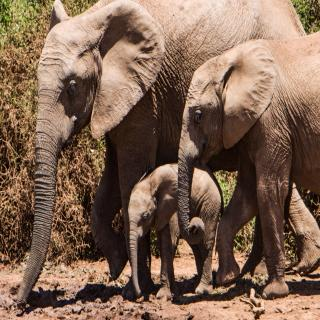Elephant: (8, 0, 202, 305), (175, 27, 320, 302), (125, 161, 228, 304)
